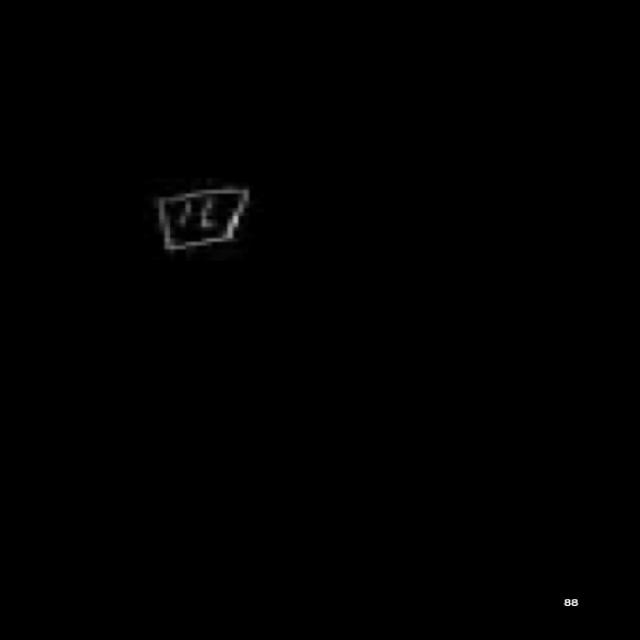4 -four-: (143, 178, 267, 266)
